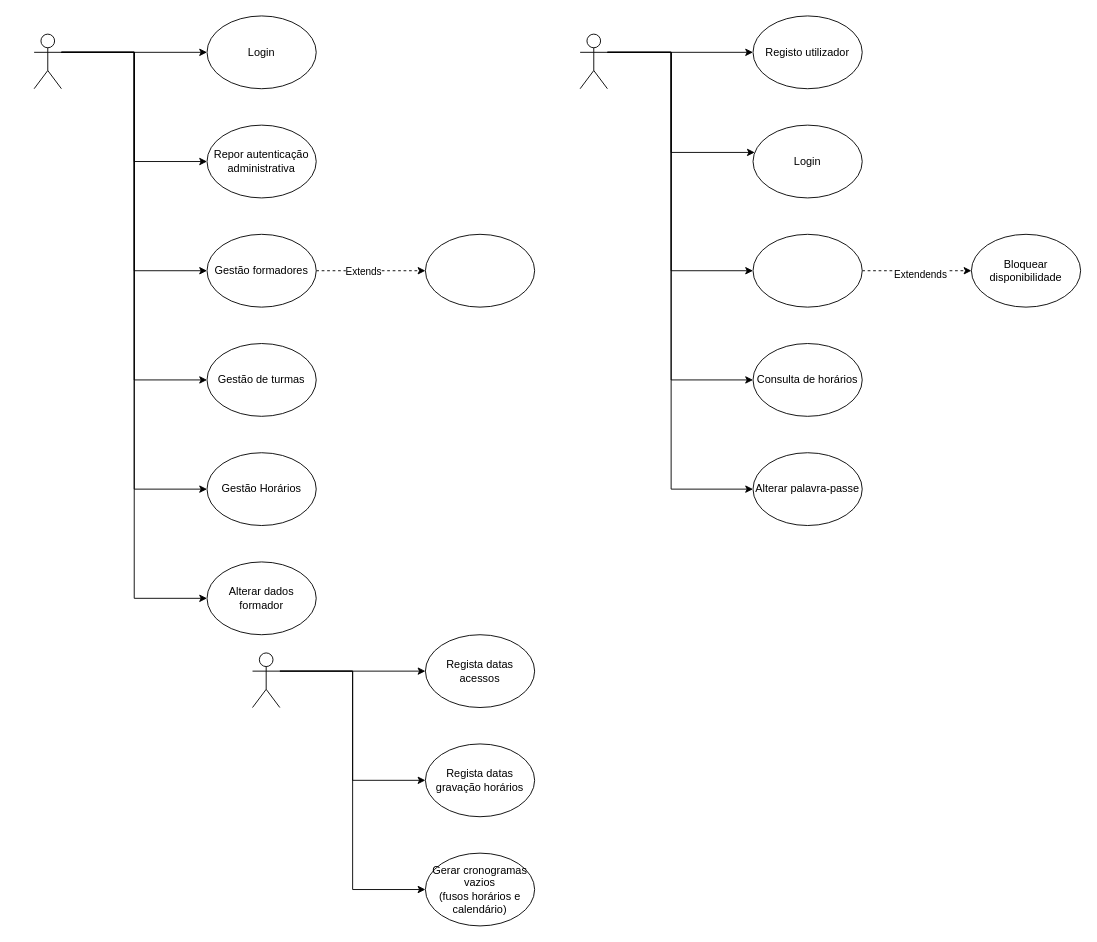
The diagram is 1097 pixels wide and 942 high, and some of its shapes have lost their labels. The shapes that lost their labels are listed below. From the top down, each one's centre as x and y in pixels, then its label:
At (47,61): "Planeamento".
At (593,61): "Formador".
At (480,270): "Envio email de autenticação (com novo registo)".
At (807,270): "Preenche disponibilidade".
At (266,680): "Sistema".
